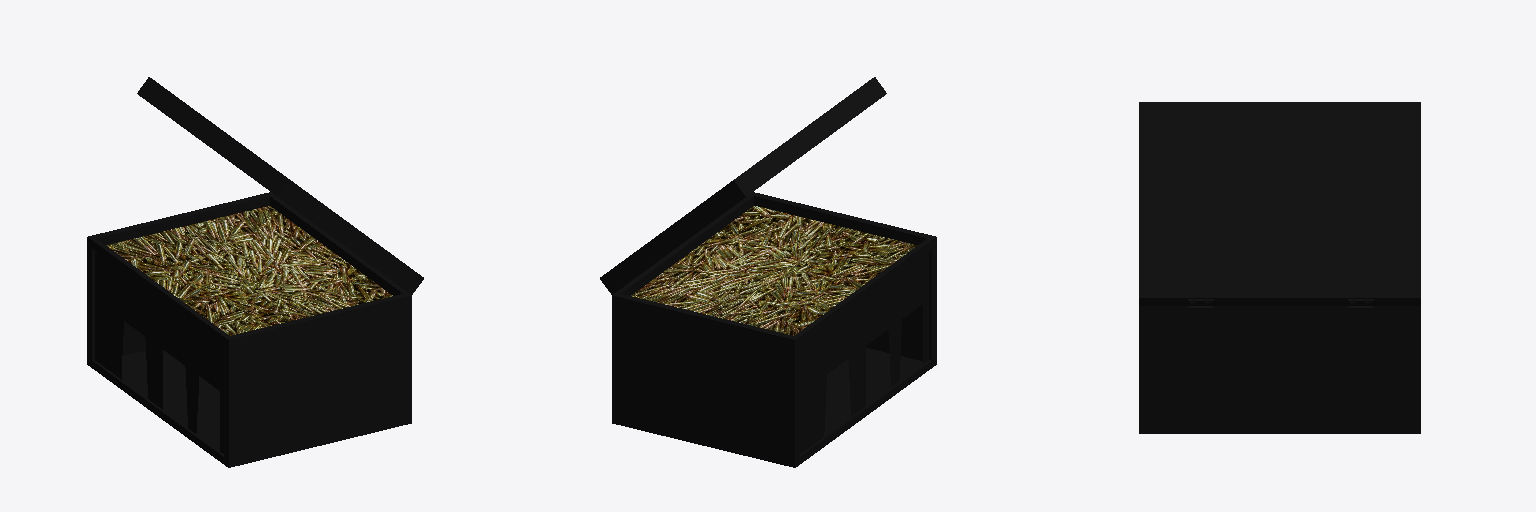
3 views of the same model, side by side, from view 1: azimuth 30°, elevation 25°; view 2: azimuth 150°, elevation 25°; view 3: azimuth 270°, elevation 25° (orthographic).
Parts seen in each view (by area): view 1: Caja_de_municion; view 2: Caja_de_municion; view 3: Caja_de_municion.
Part boxes in pixels (bbox=[...]): Caja_de_municion: bbox=[87, 77, 423, 467]; Caja_de_municion: bbox=[600, 77, 936, 467]; Caja_de_municion: bbox=[1139, 102, 1420, 433].
Size of the model in its own units: 0.3205 by 0.4265 by 0.4.
3 materials, 2 textured.